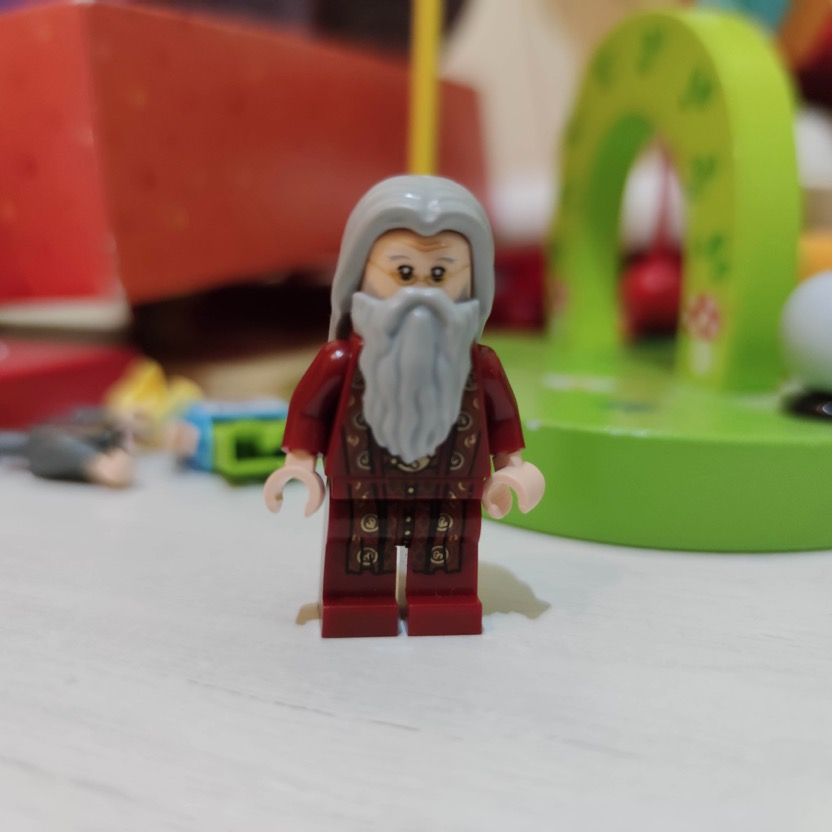lego: (265, 171, 547, 641)
